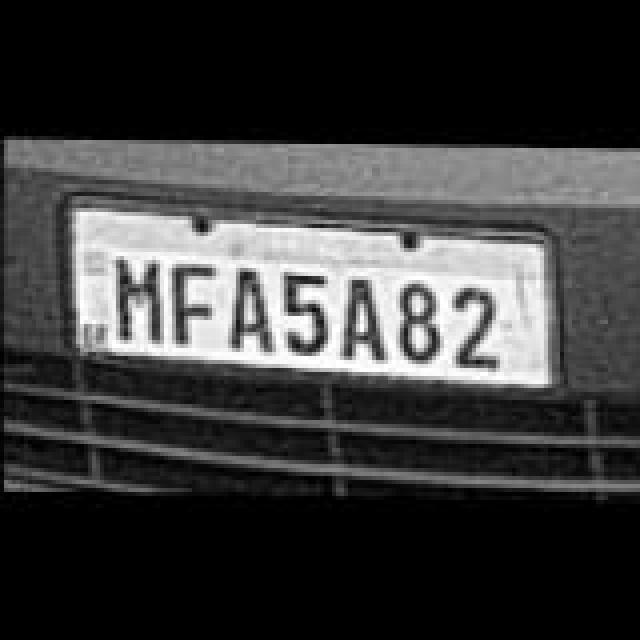2: (454, 288, 502, 372)
5: (284, 274, 336, 358)
8: (394, 286, 442, 366)
A: (226, 266, 274, 354), (344, 276, 388, 364)
F: (172, 264, 224, 348)
M: (112, 256, 164, 344)
